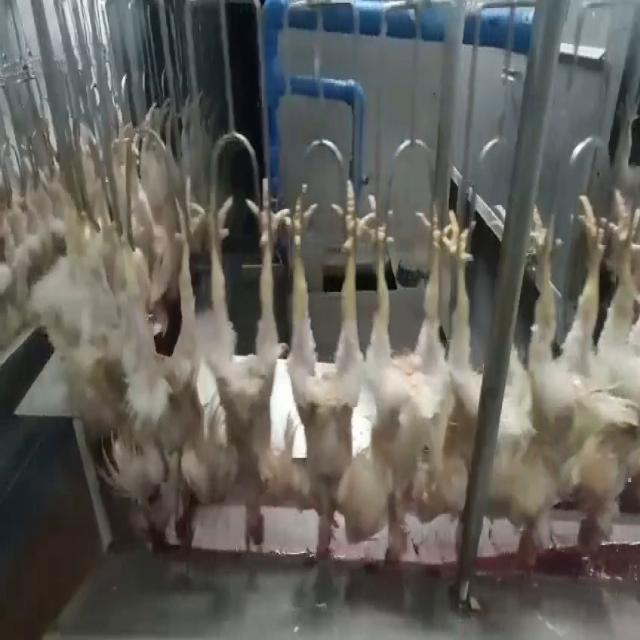chicken: (512, 190, 606, 576), (203, 168, 290, 556), (285, 178, 366, 572), (370, 197, 450, 568), (135, 165, 203, 560), (572, 182, 640, 563)
